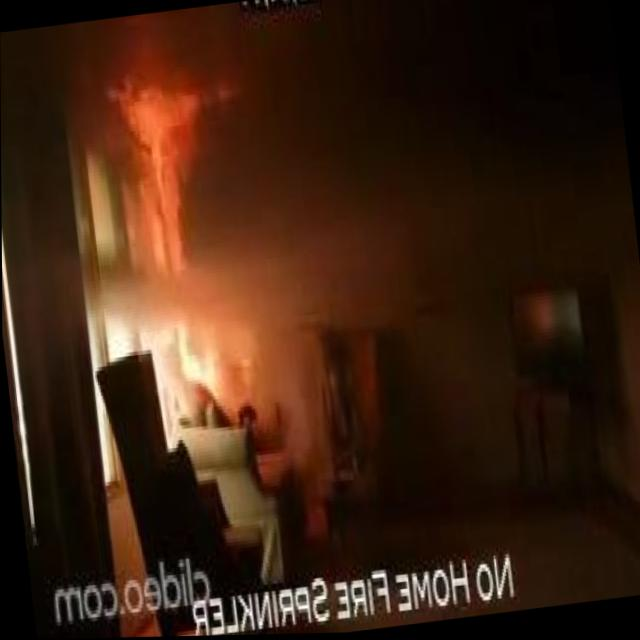fire: (110, 71, 233, 287), (171, 310, 224, 419)
